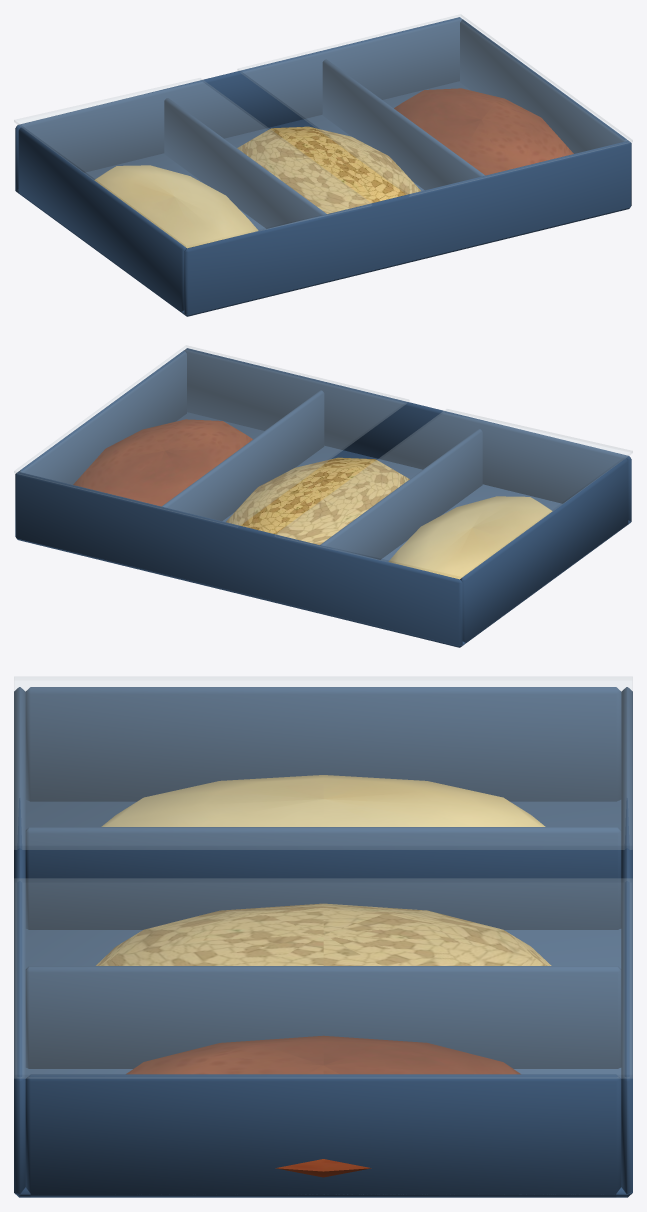
File: ration_freeze_dried_tray.glb
3 renders of one model, top to bottom at view 1: azimuth 30°, elevation 25°; view 2: azimuth 150°, elevation 25°; view 3: azimuth 270°, elevation 25°, orthographic. The views are drawn at different scales.
Parts seen in each view (by area): view 1: ration_freeze_dried_tray; view 2: ration_freeze_dried_tray; view 3: ration_freeze_dried_tray.
Boxes of the visible parts, bbox=[...] form: ration_freeze_dried_tray: bbox=[14, 14, 632, 316]; ration_freeze_dried_tray: bbox=[14, 345, 632, 647]; ration_freeze_dried_tray: bbox=[14, 676, 632, 1197].
Bounding box in the file's own units: 0.242 × 0.0414 × 0.16.
Materials: 5 (3 with a texture image).
